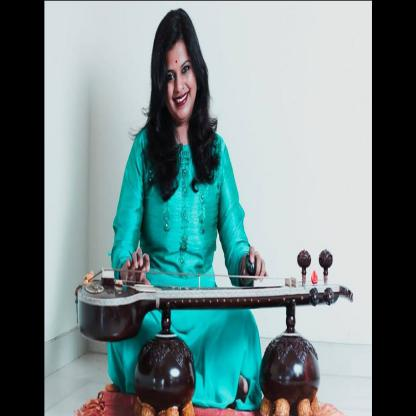Veena: (73, 230, 370, 336)
